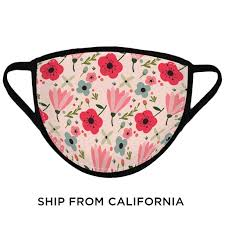cloth_mask: (3, 45, 224, 181)
